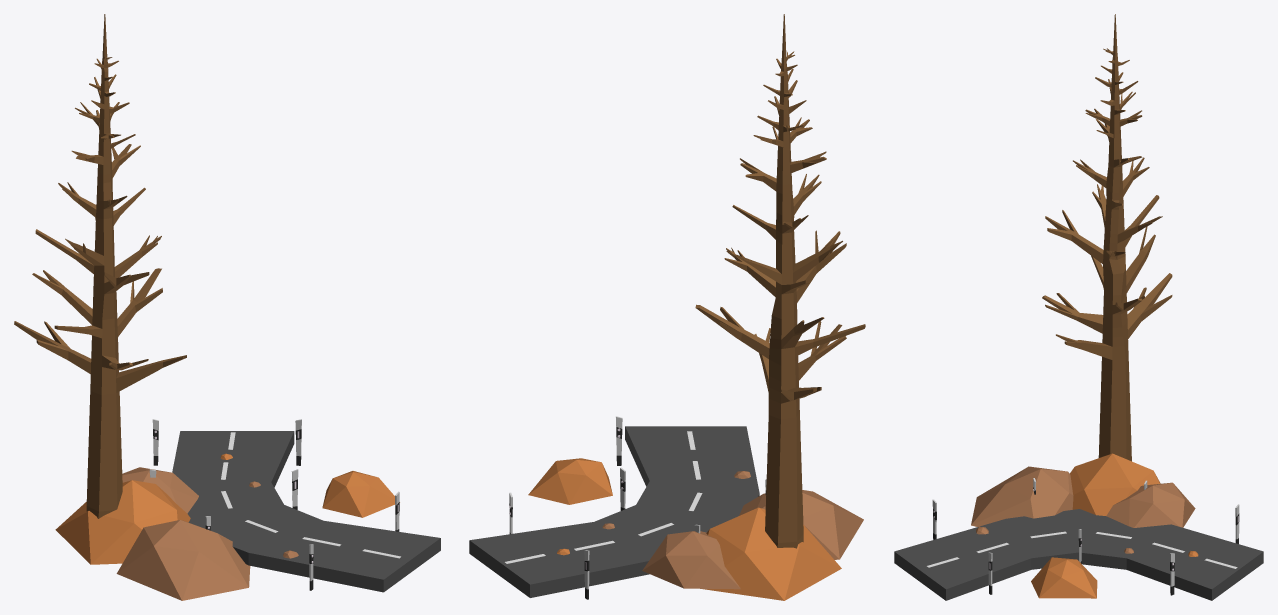
The model's file is street2_02_4.fbx.
3 views of the same model, side by side, from view 1: azimuth 30°, elevation 25°; view 2: azimuth 150°, elevation 25°; view 3: azimuth 270°, elevation 25° (orthographic). The views are drawn at different scales.
Visible parts, largest first — view 1: street02.002, giantTree, leafPileBig, leafPileBiggest, leafPileSmall, leafPileBig.001; view 2: street02.002, giantTree, leafPileBiggest, leafPileBig.001, leafPileSmall, leafPileBig; view 3: street02.002, giantTree, leafPileBig, leafPileBiggest, leafPileBig.001, leafPileSmall.
Boxes of the visible parts, x1=… form: street02.002: x1=172, y1=431, x2=440, y2=592; giantTree: x1=14, y1=14, x2=186, y2=518; leafPileBig: x1=116, y1=520, x2=250, y2=600; leafPileBiggest: x1=55, y1=480, x2=190, y2=564; leafPileSmall: x1=322, y1=471, x2=399, y2=517; leafPileBig.001: x1=122, y1=467, x2=198, y2=513; street02.002: x1=469, y1=426, x2=759, y2=597; giantTree: x1=695, y1=14, x2=865, y2=548; leafPileBiggest: x1=703, y1=507, x2=841, y2=600; leafPileBig.001: x1=642, y1=531, x2=740, y2=589; leafPileSmall: x1=528, y1=458, x2=612, y2=504; leafPileBig: x1=739, y1=490, x2=863, y2=559; street02.002: x1=894, y1=509, x2=1263, y2=600; giantTree: x1=1042, y1=14, x2=1172, y2=461; leafPileBig: x1=971, y1=466, x2=1073, y2=526; leafPileBiggest: x1=1070, y1=453, x2=1160, y2=515; leafPileBig.001: x1=1106, y1=482, x2=1195, y2=527; leafPileSmall: x1=1031, y1=557, x2=1097, y2=598.
Size of the model in its own units: 89.32 by 143 by 99.52.
